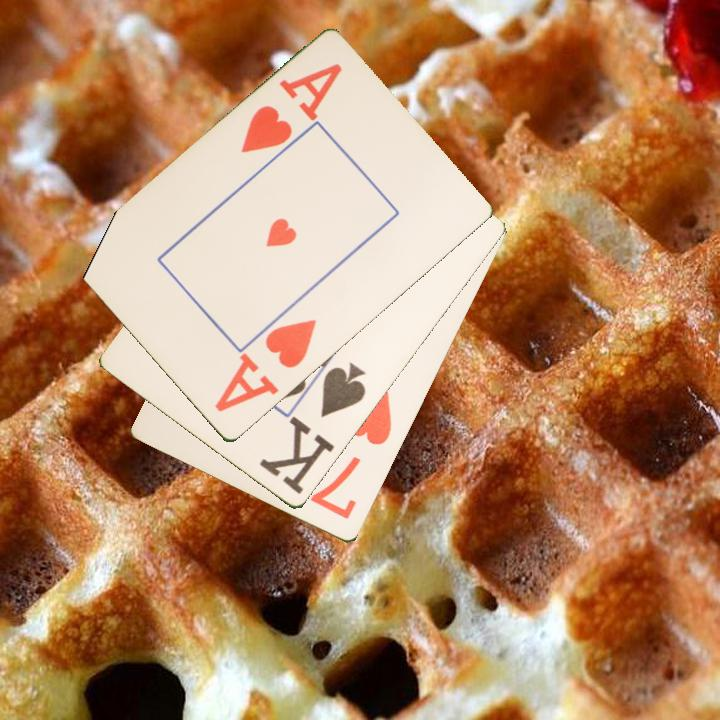7h: (306, 386, 396, 523)
Ah: (211, 315, 320, 416), (237, 60, 345, 157)
Ks: (256, 359, 370, 498)
